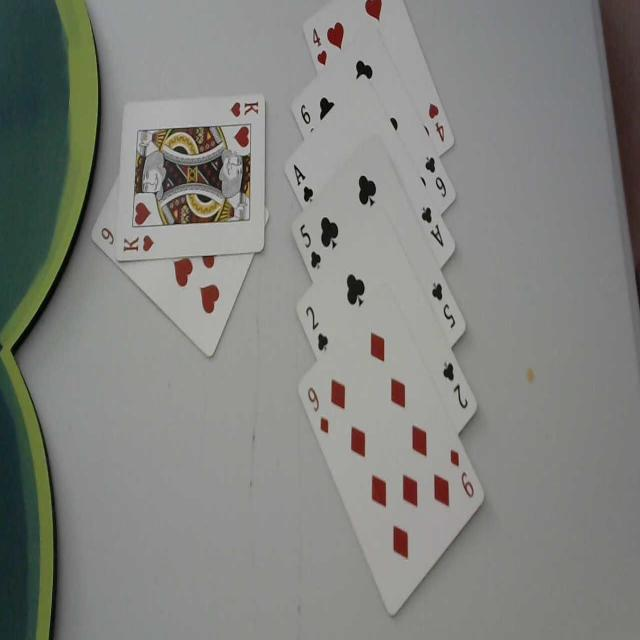2C: (306, 299, 332, 357), (441, 358, 469, 408)
4H: (426, 100, 448, 144), (310, 25, 330, 67)
5C: (429, 279, 456, 335), (300, 222, 322, 273)
6C: (424, 152, 450, 200)
9D: (306, 380, 334, 442), (449, 446, 475, 500)
AC: (420, 201, 446, 251), (292, 161, 314, 208)
KH: (121, 231, 157, 255), (227, 97, 261, 120)
